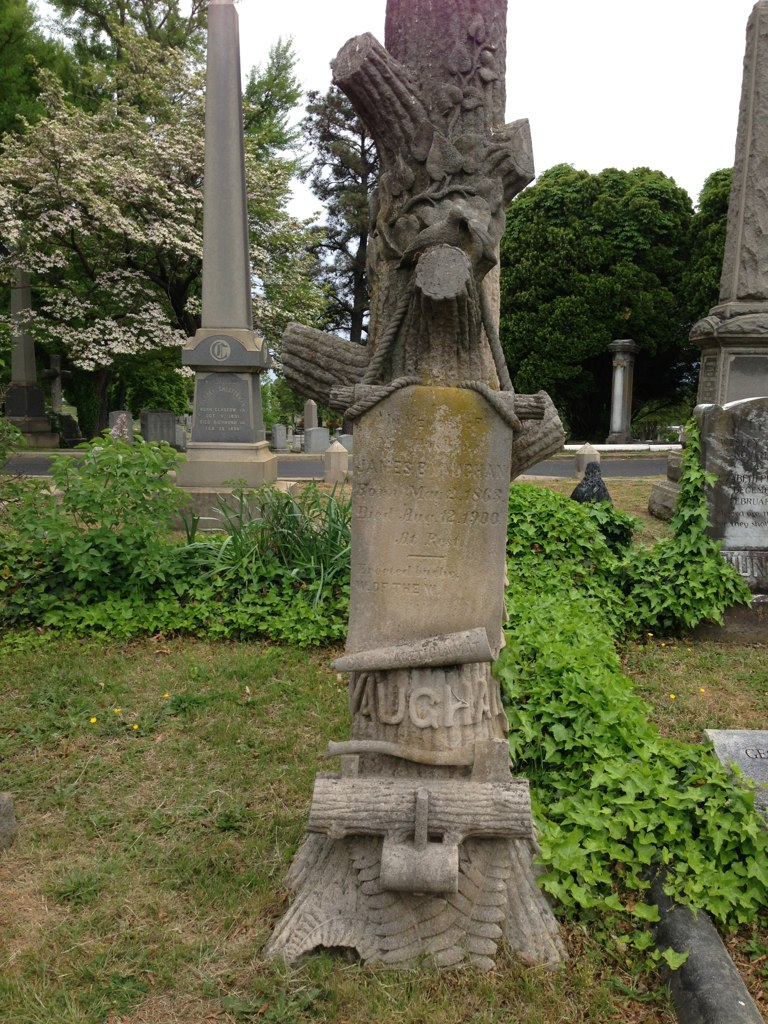obelisk: (287, 0, 565, 973)
